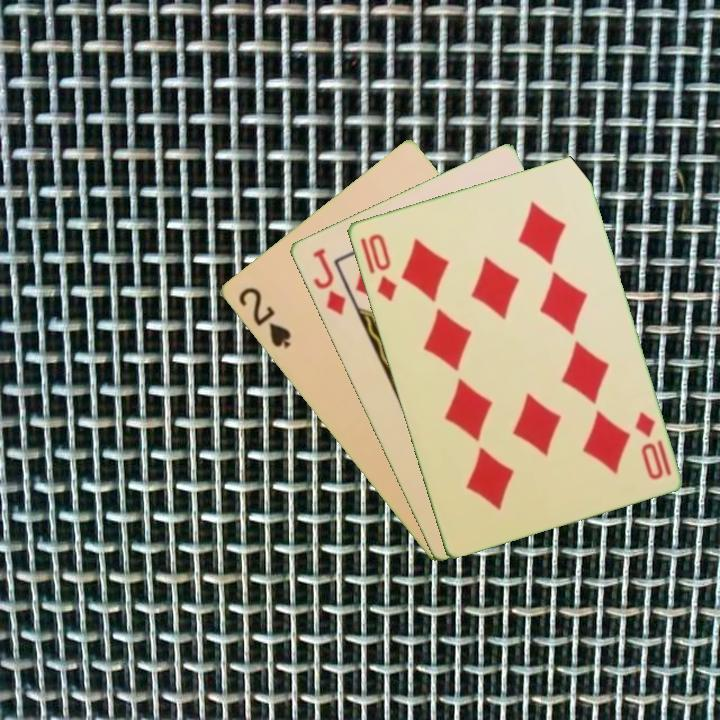10d: (631, 408, 674, 483), (364, 229, 399, 304)
2s: (234, 283, 294, 352)
Jd: (308, 244, 349, 318)
